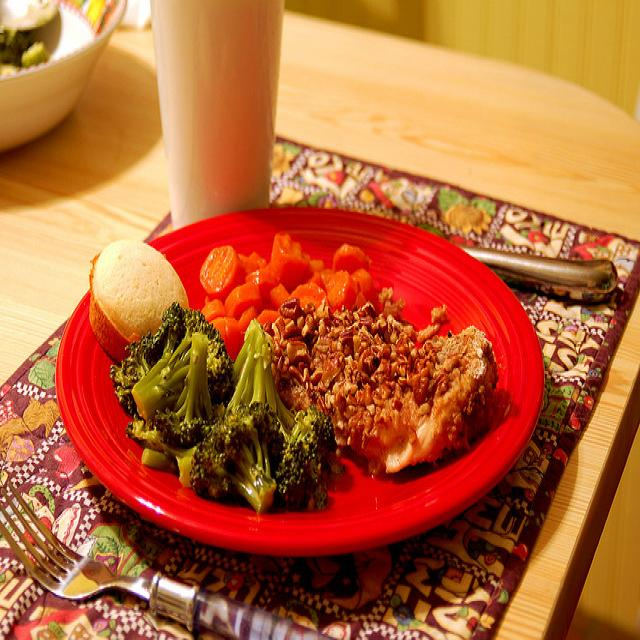carrot: (200, 235, 375, 360)
